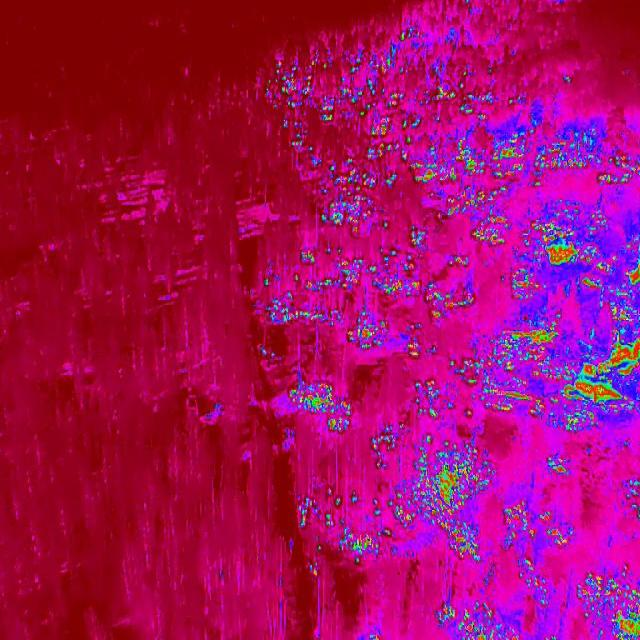fire: (258, 29, 534, 246), (260, 248, 474, 358), (477, 313, 640, 438), (393, 438, 498, 564), (296, 494, 396, 574), (580, 222, 640, 338), (522, 198, 616, 272), (533, 140, 640, 194), (496, 497, 576, 567), (574, 566, 640, 640), (412, 360, 480, 426), (286, 378, 356, 442), (430, 602, 526, 640), (364, 419, 404, 469), (496, 265, 543, 305), (534, 448, 578, 482)
